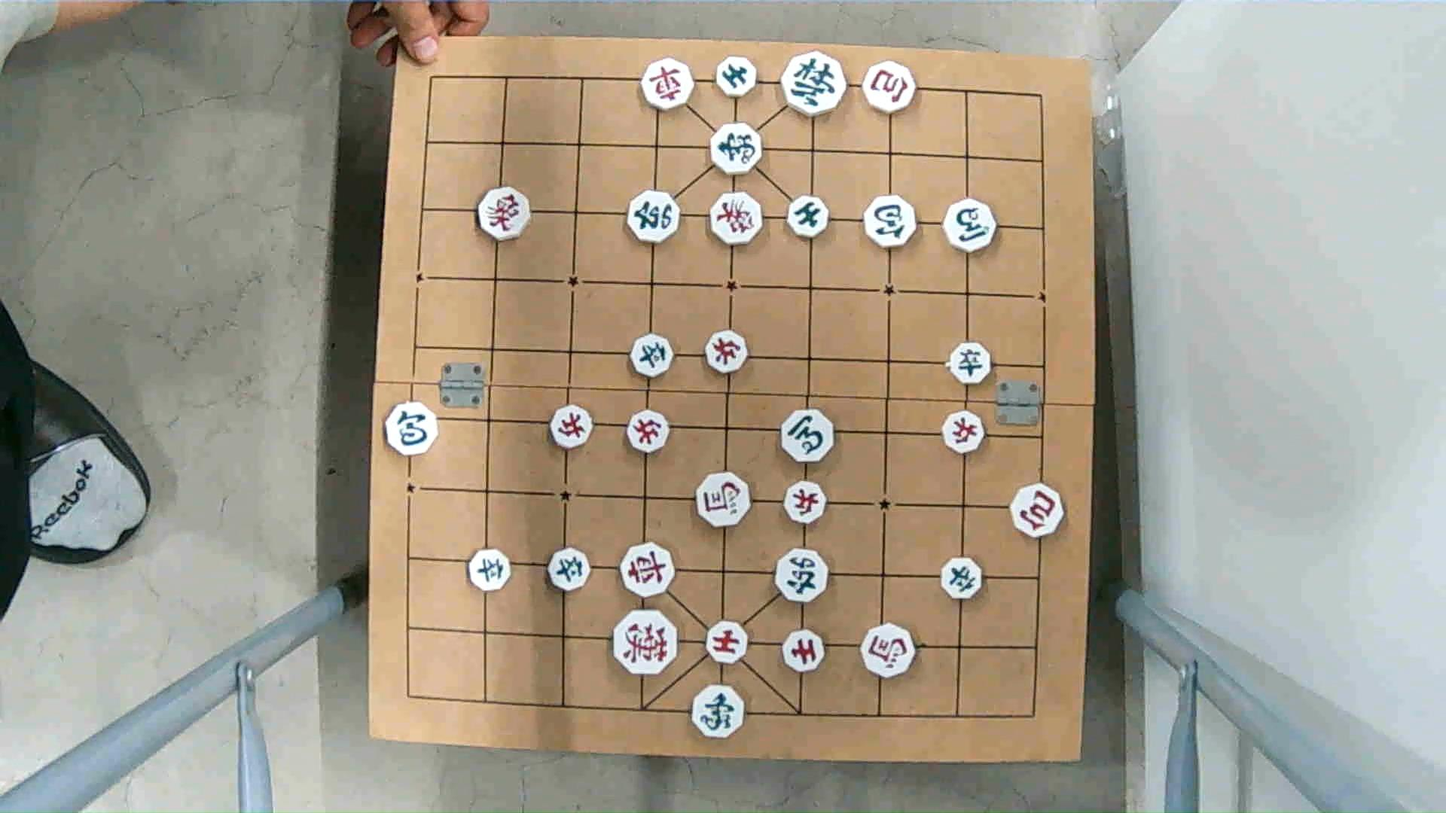cha_green: (628, 191, 681, 242), (776, 553, 825, 603)
cha_red: (621, 544, 680, 593), (642, 62, 696, 108)
jol_green: (467, 547, 511, 592), (629, 335, 675, 377), (546, 550, 593, 590), (947, 345, 993, 383), (940, 560, 986, 598)
jol_red: (782, 480, 830, 520), (548, 407, 596, 446), (703, 334, 750, 373), (939, 413, 987, 451), (624, 412, 670, 451)
ma_green: (780, 413, 834, 463), (943, 202, 999, 248)
ma_red: (696, 475, 754, 522), (859, 626, 915, 673)
po_green: (386, 403, 440, 454), (862, 198, 918, 247)
po_red: (860, 62, 918, 109), (1010, 486, 1066, 534)
sa_green: (786, 196, 831, 235), (714, 58, 760, 94)
sa_red: (780, 629, 828, 673), (705, 620, 748, 663)
sang_green: (694, 687, 746, 738), (710, 125, 763, 172)
sang_red: (475, 190, 532, 238), (710, 193, 763, 243)
wang_green: (779, 56, 850, 114)
wang_red: (612, 615, 682, 673)
